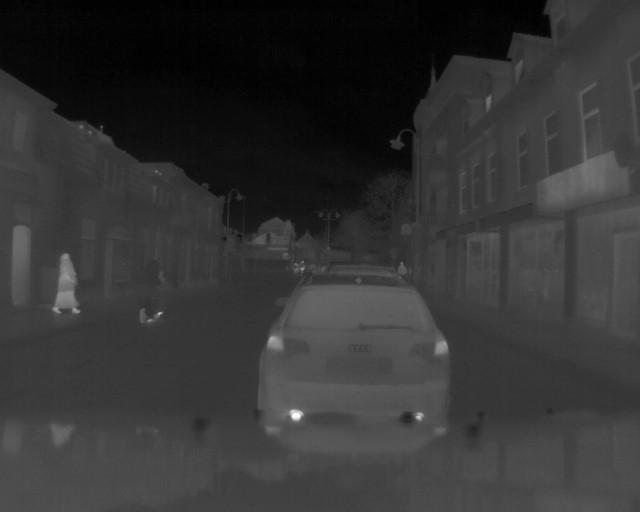car: (268, 282, 456, 438)
person: (133, 252, 166, 320), (55, 246, 81, 317), (298, 257, 305, 277), (398, 259, 407, 274)
